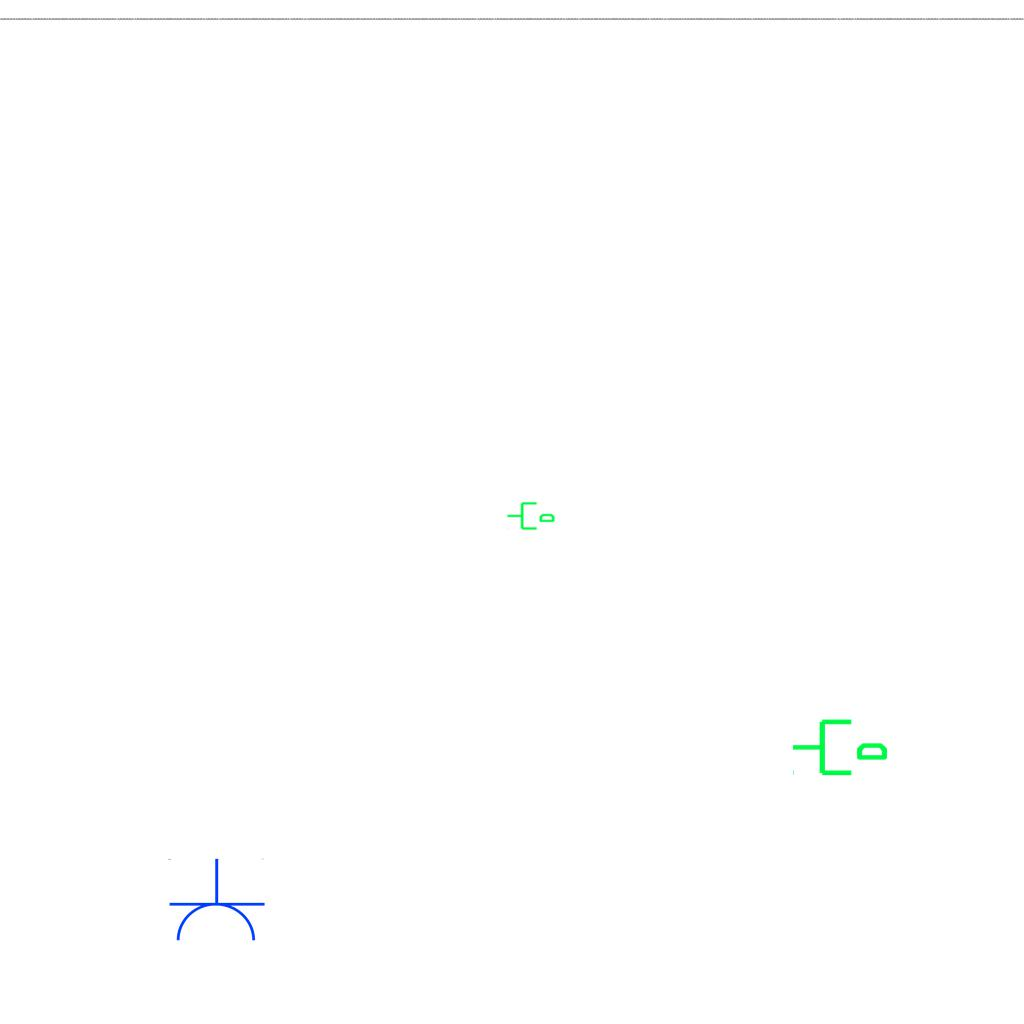Datenanschluss_einfach: (790, 711, 890, 780), (506, 498, 556, 532)
Schukosteckdose_einfach: (166, 858, 266, 945)
